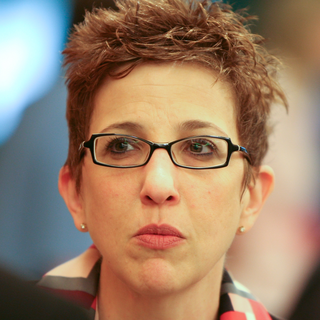eye: (177, 132, 225, 162), (97, 132, 147, 160)
